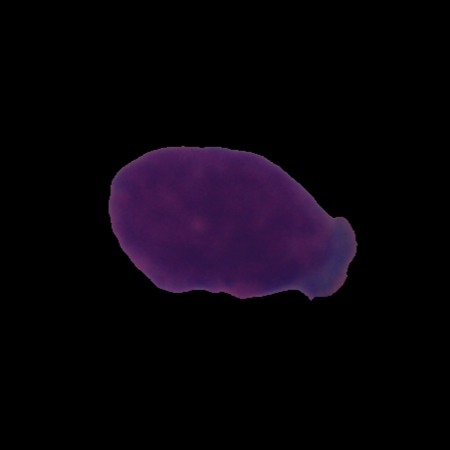ALL: (104, 140, 362, 304)
